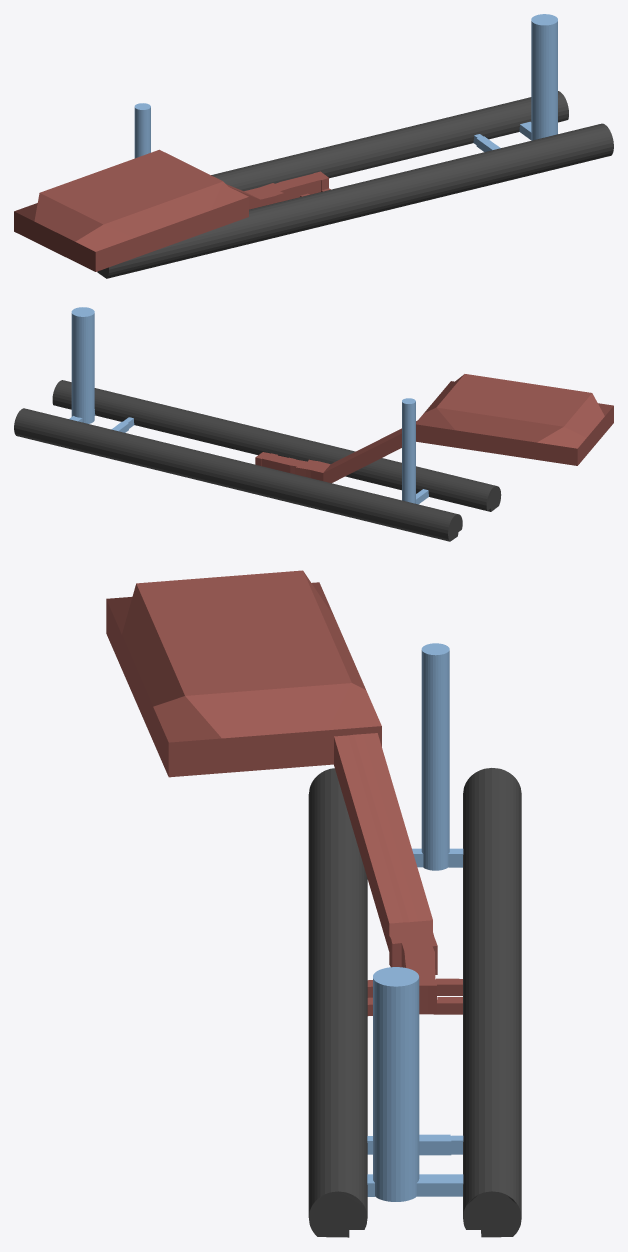
3 renders of one model, top to bottom at view 1: azimuth 30°, elevation 25°; view 2: azimuth 150°, elevation 25°; view 3: azimuth 270°, elevation 25°, orthographic. The views are drawn at different scales.
Parts seen in each view (by area): view 1: TicketHall, PLT1, PLT2, 16, Concourse, 22; view 2: PLT2, TicketHall, PLT1, 16, 22, ESC, Concourse; view 3: TicketHall, PLT2, PLT1, 16, ESC, 22, Concourse, 32.
Boxes of the visible parts, x1=… form: TicketHall: x1=14, y1=149, x2=248, y2=271; PLT1: x1=97, y1=123, x2=613, y2=278; PLT2: x1=211, y1=91, x2=568, y2=190; 16: x1=519, y1=14, x2=557, y2=140; Concourse: x1=244, y1=171, x2=328, y2=206; 22: x1=134, y1=103, x2=150, y2=158; PLT2: x1=14, y1=408, x2=462, y2=541; TicketHall: x1=416, y1=374, x2=613, y2=465; PLT1: x1=52, y1=380, x2=501, y2=511; 16: x1=69, y1=307, x2=95, y2=423; 22: x1=402, y1=398, x2=428, y2=504; ESC: x1=323, y1=420, x2=417, y2=483; Concourse: x1=255, y1=452, x2=330, y2=480; TicketHall: x1=106, y1=570, x2=381, y2=777; PLT2: x1=463, y1=768, x2=521, y2=1237; PLT1: x1=308, y1=768, x2=367, y2=1237; 16: x1=367, y1=967, x2=463, y2=1201; ESC: x1=334, y1=733, x2=432, y2=951; 22: x1=412, y1=643, x2=463, y2=870; Concourse: x1=389, y1=920, x2=437, y2=1014; 32: x1=367, y1=1134, x2=463, y2=1155.
Bounding box in the file's own units: 186 × 38.67 × 65.05.
